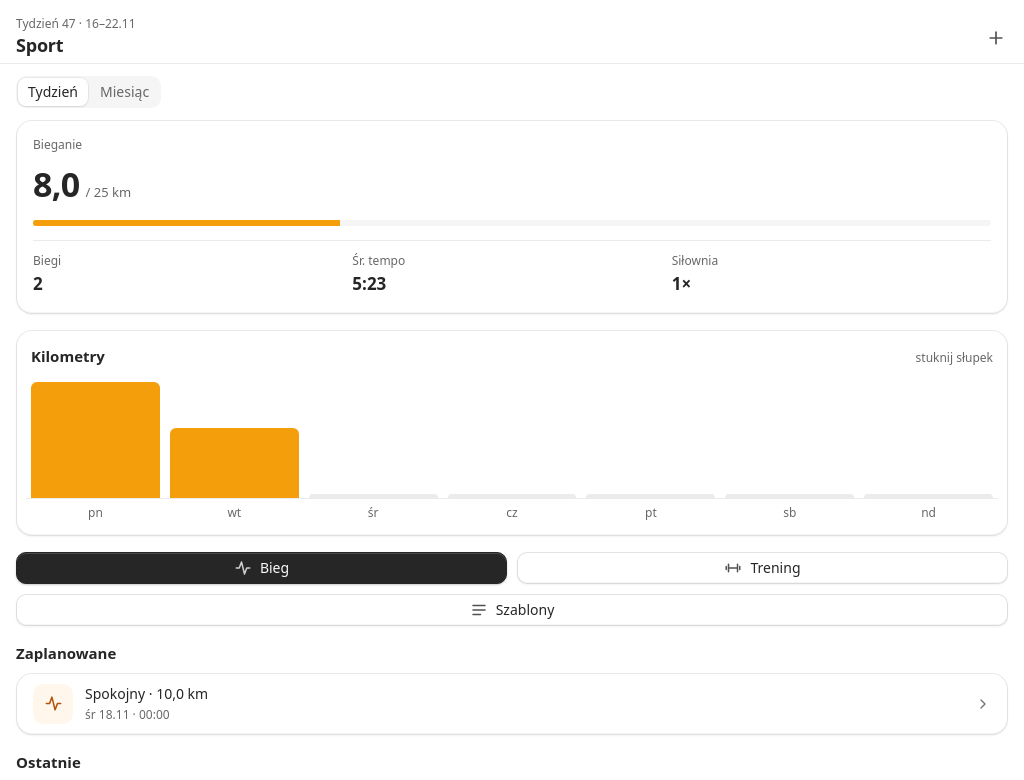
it: MSport › Miesiąc: 4 ostatnie tygodnie, cel × 4, słupek na tydzień
Click the radio button labelled "Miesiąc". click: point(125, 92)
box: [90,78,159,106]
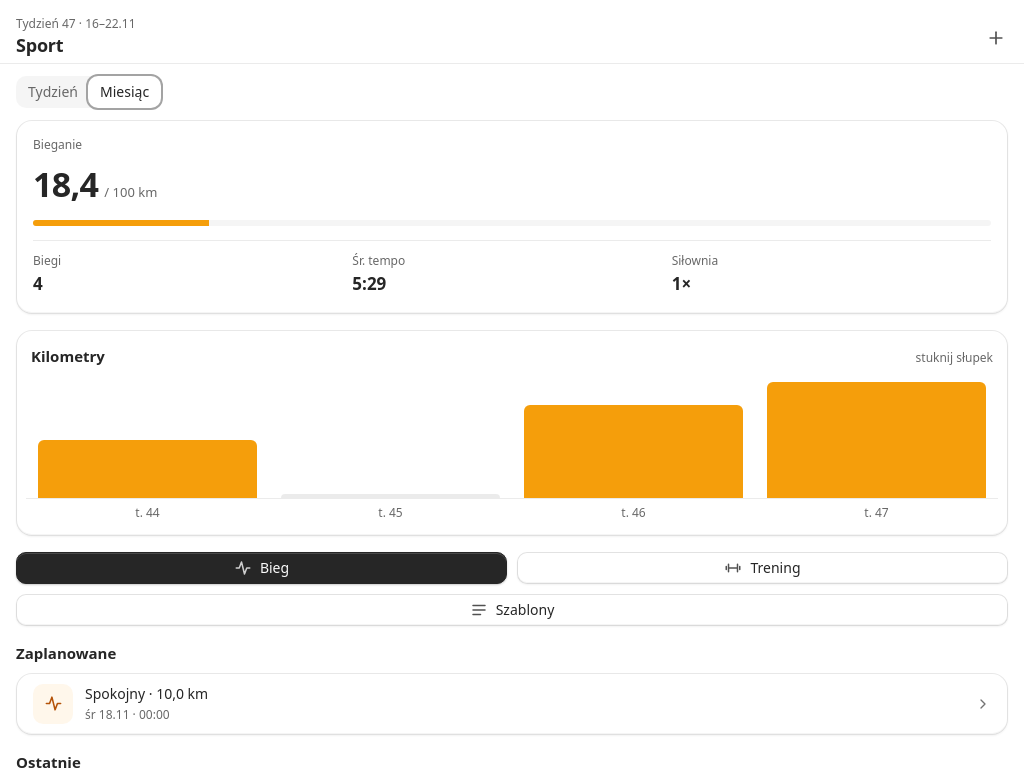
Now the text with test id "km" reads "18,4", box [33,161,98,207]
Now the text "/ 100 km" is shown, box [104,183,157,202]
Now the text with test id "biegi" reads "4", box [33,272,43,295]
Click the button named "t. 46: 6,4 km". click: point(634, 438)
box: [512,379,755,498]
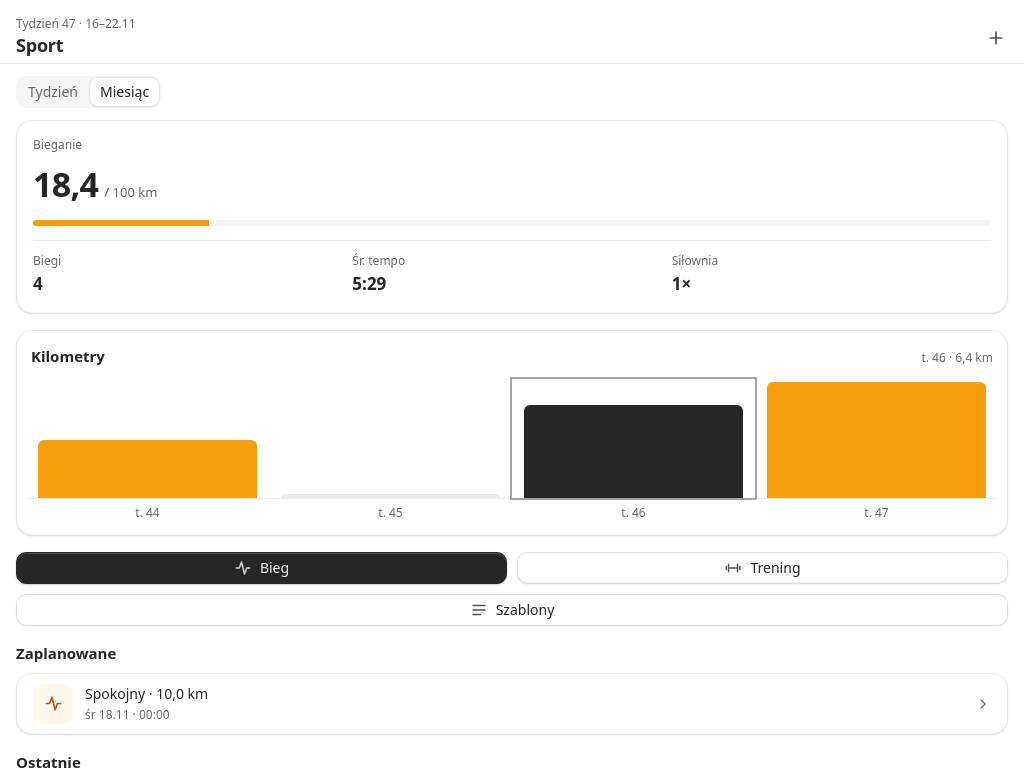
Now the text "t. 46 · 6,4 km" is shown, box [922,350,993,366]
Zmiana zakresu czyści wybrany słupek
Click the radio button labelled "Tydzień". click: point(53, 92)
box: [18,78,88,106]
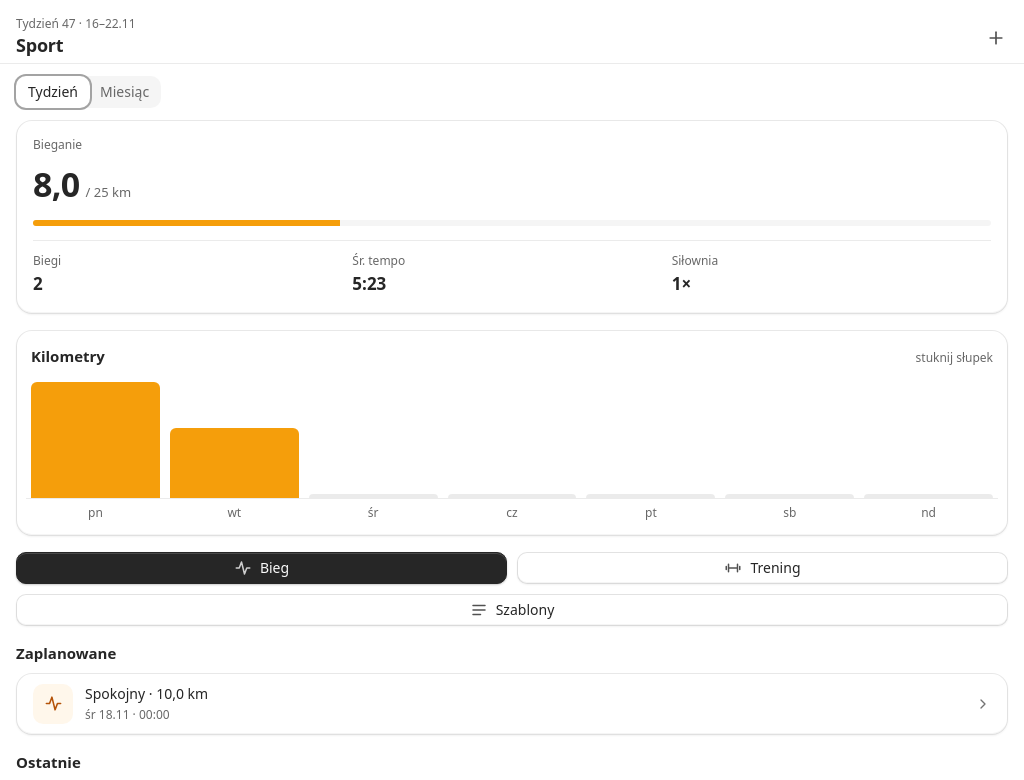
Now the text "stuknij słupek" is shown, box [916,350,993,366]
